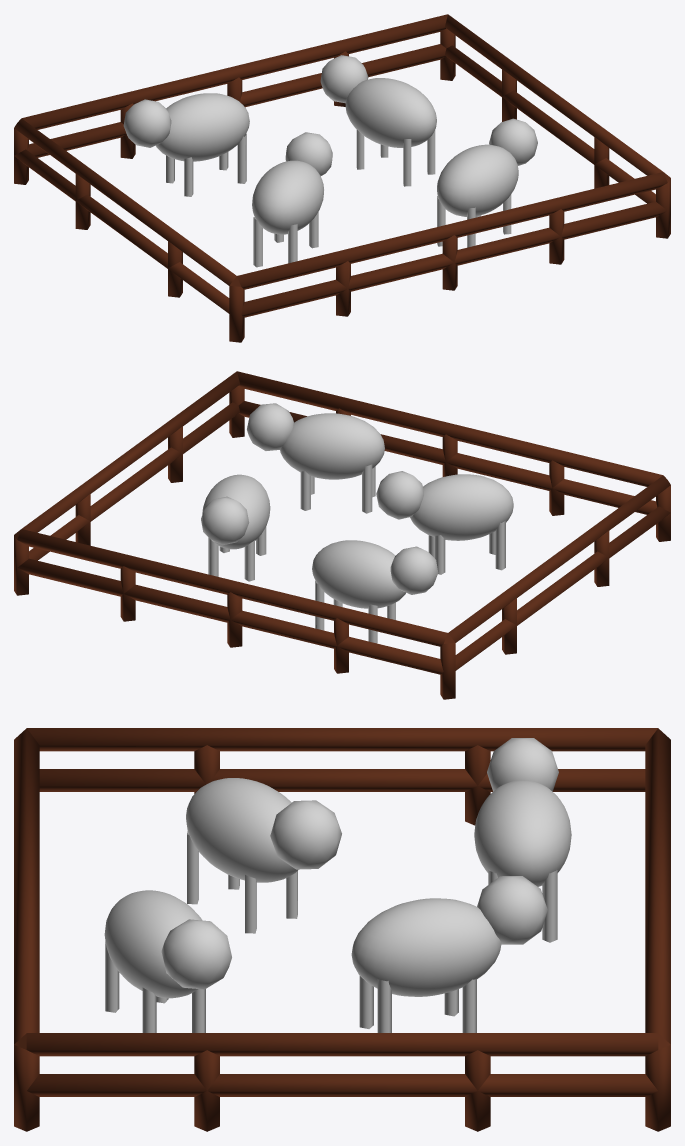
The model's file is BFarmCow.obj.
The picture shows the model from 3 angles, top to bottom: view 1: azimuth 30°, elevation 25°; view 2: azimuth 150°, elevation 25°; view 3: azimuth 270°, elevation 25°; orthographic projection. The views are drawn at different scales.
Parts seen in each view (by area): view 1: AppleFarm; view 2: AppleFarm; view 3: AppleFarm.
Part boxes in pixels (x1,y1,x2,y2): AppleFarm: (14,14,670,342); AppleFarm: (14,371,670,699); AppleFarm: (14,728,670,1131).
Bounding box in the file's own units: 8.28 × 1.7 × 7.28.
